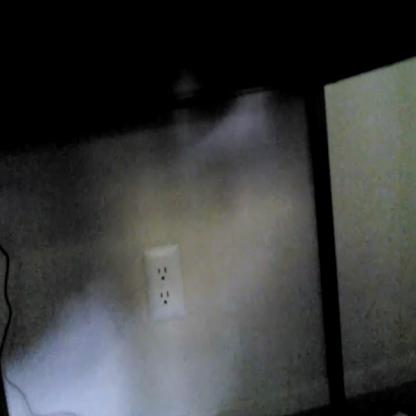OUTLET: (145, 245, 184, 320)
